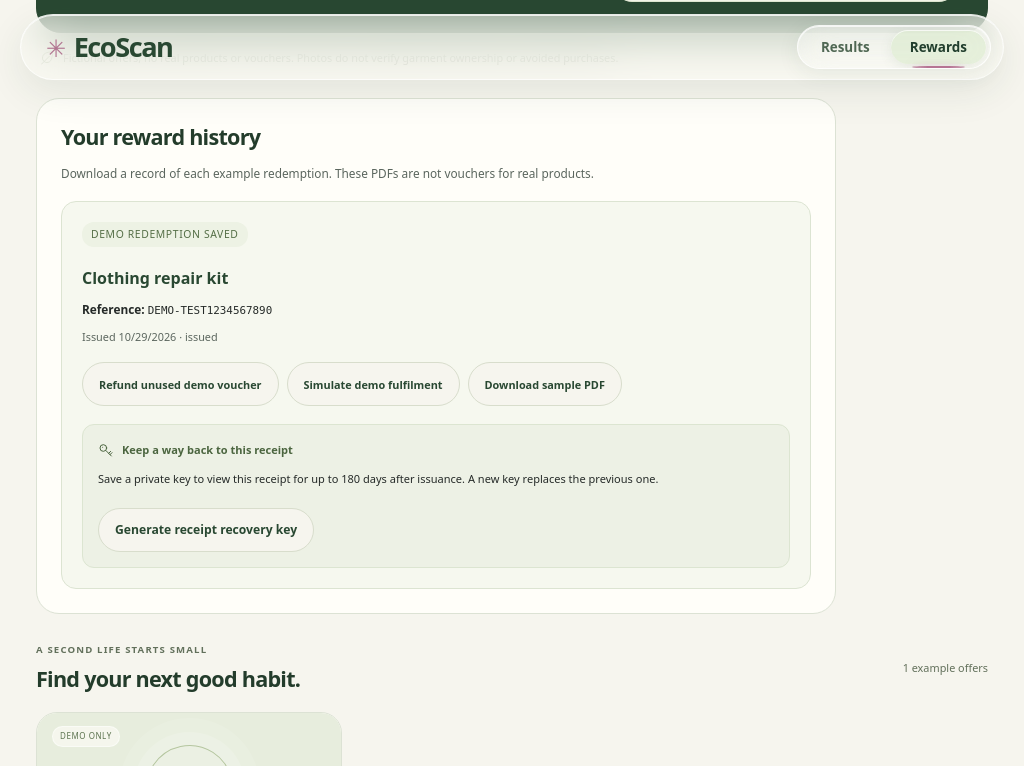
Test case: EcoScan user journeys › simulates demo fulfilment only after confirmation and removes refund access
The width and height of the screenshot is (1024, 766).
(page scrolled)
Click the button "Simulate demo fulfilment" at (373, 384), box x1=286 y1=362 x2=460 y2=406
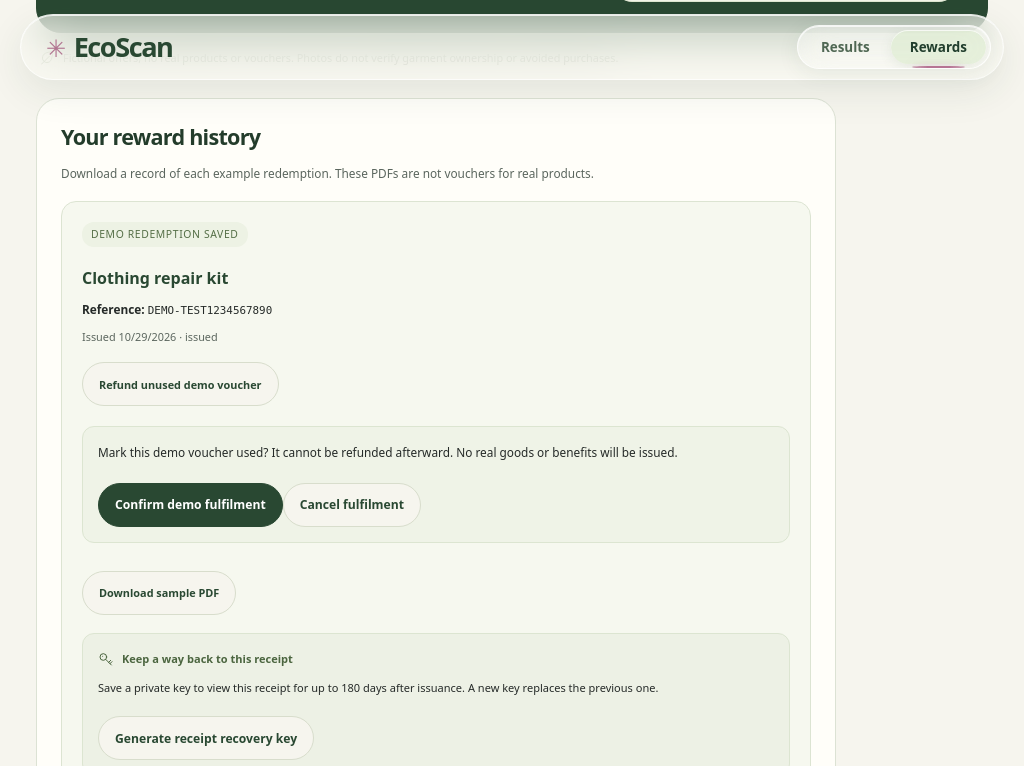
Click the button "Confirm demo fulfilment" at (190, 505), box x1=98 y1=483 x2=283 y2=527
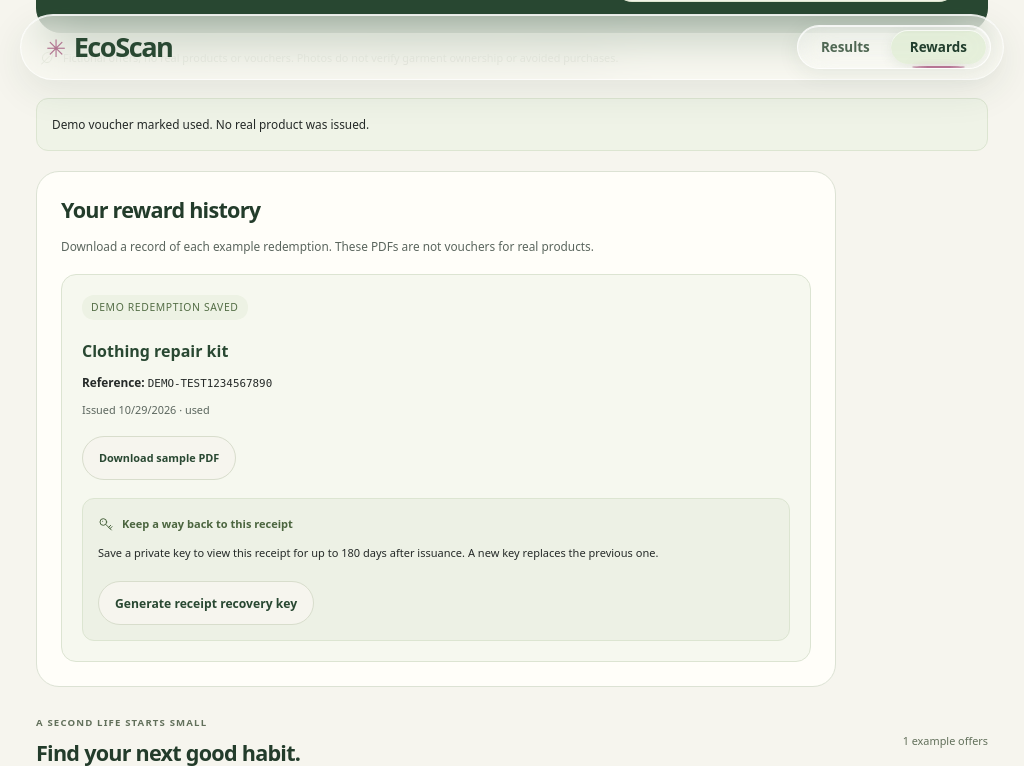
Check: the button "Refund unused demo voucher" is gone
